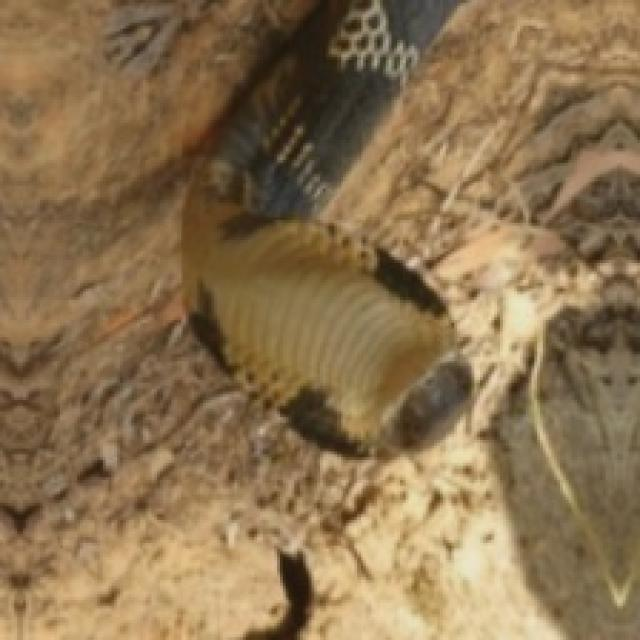king cobra: (509, 277, 637, 623)
